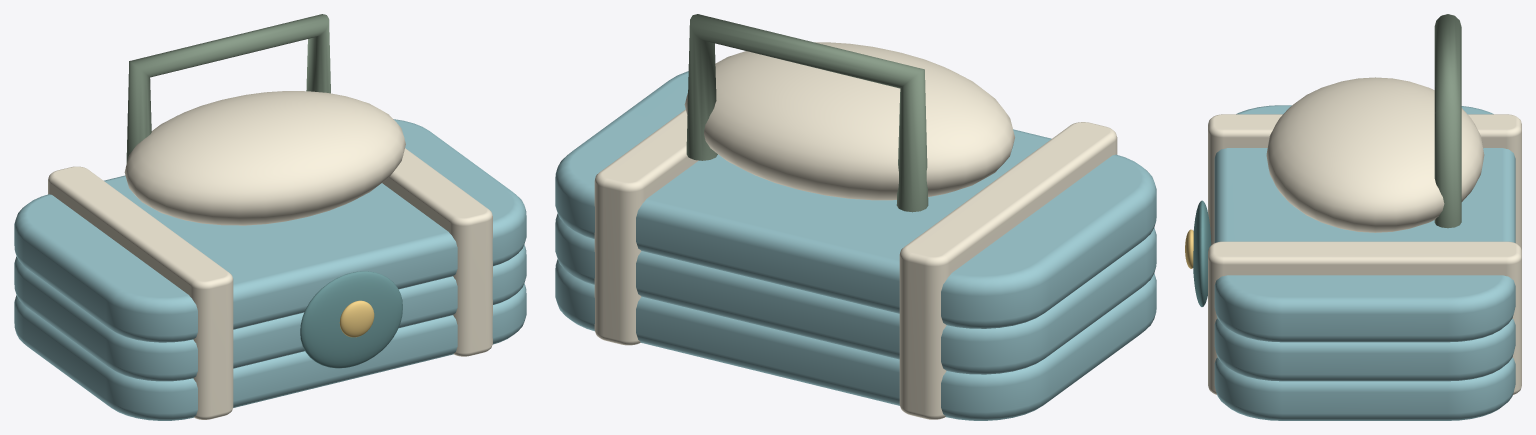
File: Rest_Care_Kit.glb
3 renders of one model, left to right at view 1: azimuth 30°, elevation 25°; view 2: azimuth 150°, elevation 25°; view 3: azimuth 270°, elevation 25°, orthographic. The views are drawn at different scales.
Parts seen in each view (by area): view 1: Blanket_fold_2, Care_soft_pillow, Blanket_fold_0, Blanket_fold_1, Blanket_wrap_strap, Blanket_wrap_strap.001, Care_handle, Care_badge, Care_badge_star; view 2: Blanket_fold_2, Care_soft_pillow, Blanket_fold_0, Blanket_fold_1, Blanket_wrap_strap, Care_handle, Blanket_wrap_strap.001; view 3: Blanket_fold_2, Care_soft_pillow, Blanket_wrap_strap.001, Blanket_fold_0, Blanket_fold_1, Care_handle, Blanket_wrap_strap, Care_badge.
Part boxes in pixels (x1=…): Blanket_fold_2: x1=14, y1=119, x2=526, y2=342; Care_soft_pillow: x1=124, y1=91, x2=405, y2=225; Blanket_fold_0: x1=14, y1=283, x2=526, y2=420; Blanket_fold_1: x1=14, y1=244, x2=526, y2=381; Blanket_wrap_strap: x1=48, y1=166, x2=233, y2=419; Blanket_wrap_strap.001: x1=382, y1=148, x2=492, y2=356; Care_handle: x1=126, y1=14, x2=330, y2=163; Care_badge: x1=300, y1=271, x2=402, y2=368; Care_badge_star: x1=339, y1=300, x2=374, y2=337; Blanket_fold_2: x1=555, y1=71, x2=1156, y2=328; Care_soft_pillow: x1=684, y1=42, x2=1014, y2=200; Blanket_fold_0: x1=555, y1=259, x2=1156, y2=420; Blanket_fold_1: x1=555, y1=213, x2=1156, y2=374; Blanket_wrap_strap: x1=899, y1=122, x2=1117, y2=419; Care_handle: x1=686, y1=14, x2=928, y2=212; Blanket_wrap_strap.001: x1=594, y1=109, x2=698, y2=345; Blanket_fold_2: x1=1214, y1=105, x2=1515, y2=342; Care_soft_pillow: x1=1266, y1=77, x2=1484, y2=232; Blanket_wrap_strap.001: x1=1208, y1=241, x2=1521, y2=394; Blanket_fold_0: x1=1214, y1=357, x2=1515, y2=420; Blanket_fold_1: x1=1214, y1=318, x2=1515, y2=381; Care_handle: x1=1434, y1=14, x2=1461, y2=228; Blanket_wrap_strap: x1=1208, y1=114, x2=1521, y2=250; Care_badge: x1=1193, y1=200, x2=1211, y2=306.
Bounding box in the file's own units: 0.92 × 0.5584 × 0.6495.
